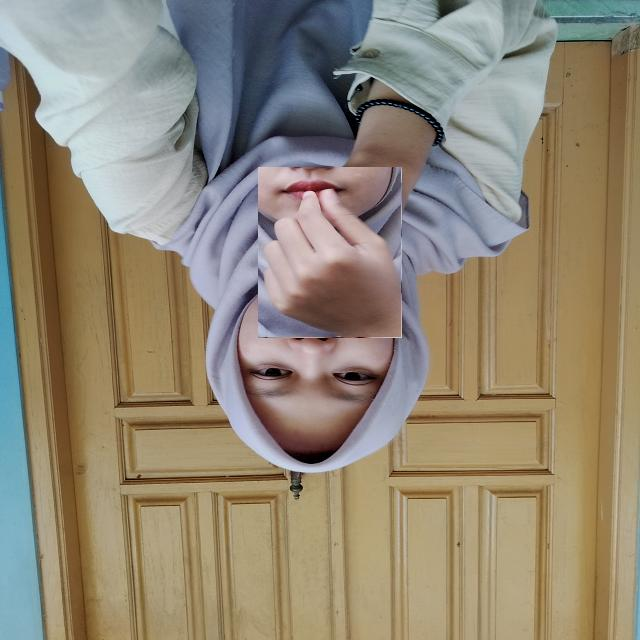bau: (258, 167, 402, 338)
